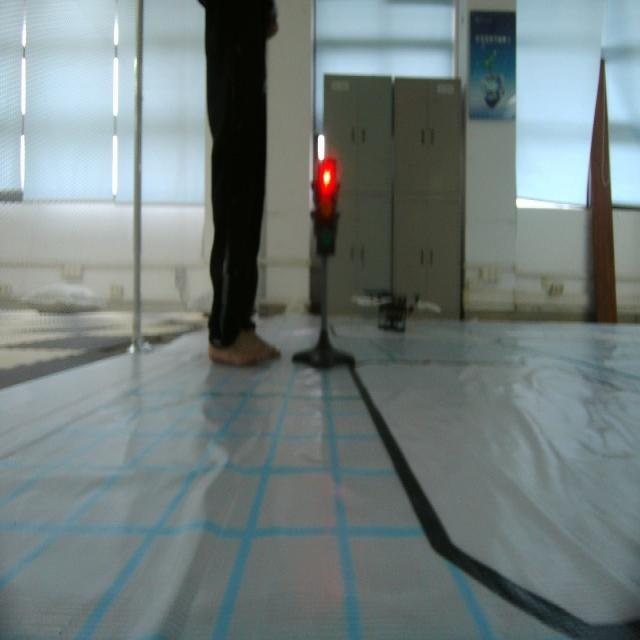red: (310, 156, 342, 263)
